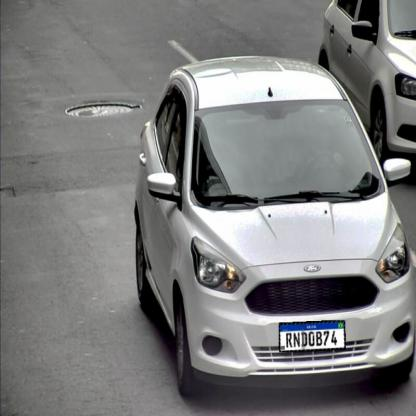PlacaM: (279, 320, 346, 352)
